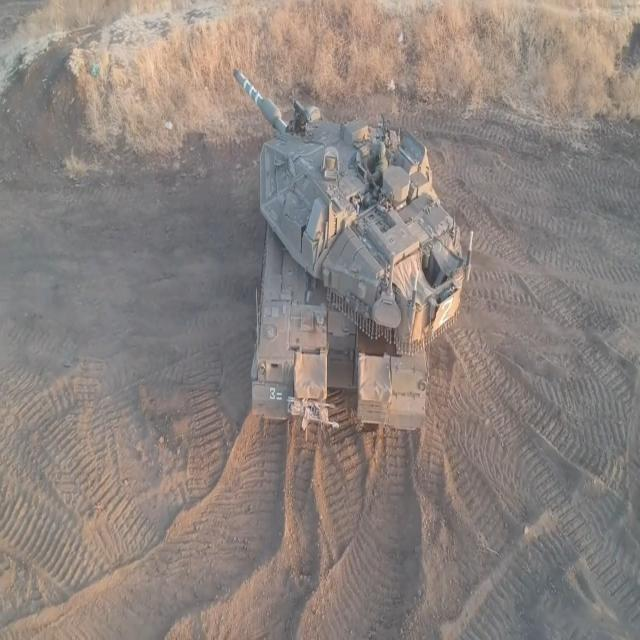tank: (227, 55, 478, 448)
